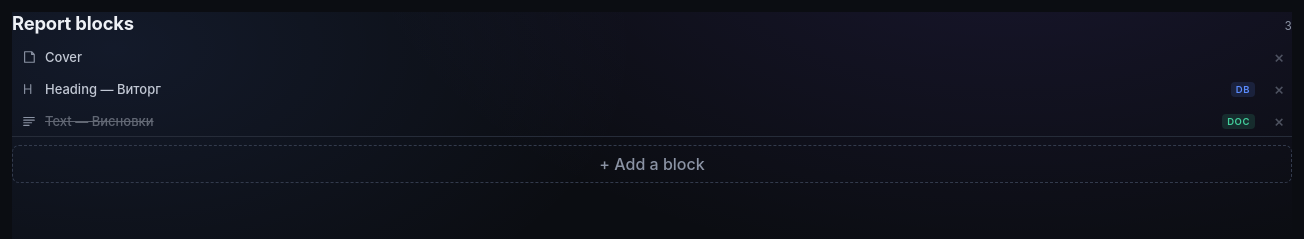
Test: BlockTree › keeps the palette out of the way until it is asked for
Click the button with test id "block-add-toggle". click: (652, 164)
box: [12,145,1292,183]
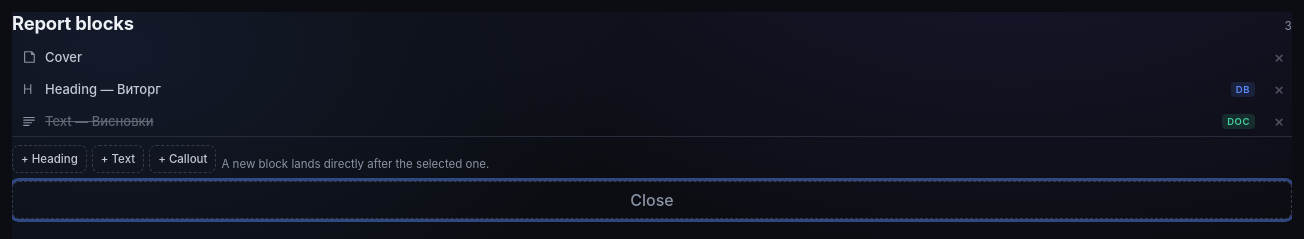
Result: the element named "Add a block" is shown at [12,145,489,173]
